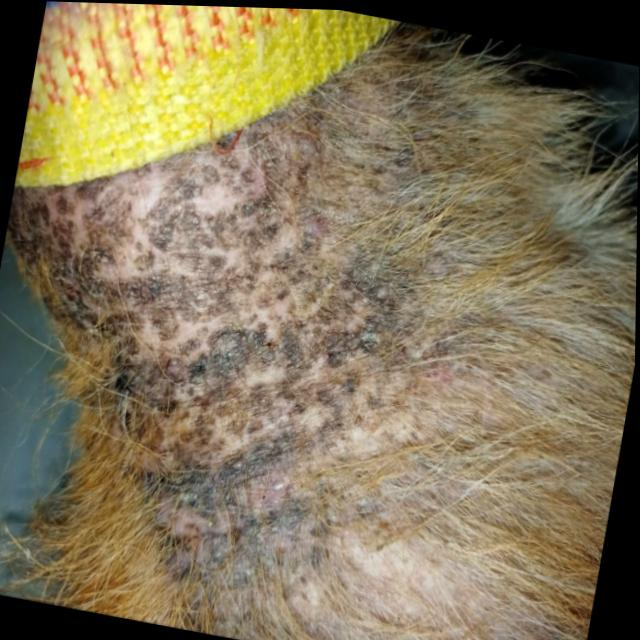demodicosis: (58, 165, 480, 626)
